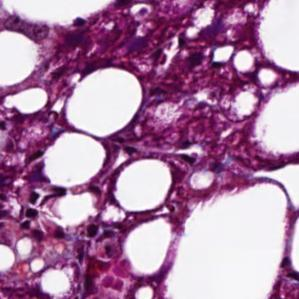inflammation: (16, 183, 69, 241), (173, 23, 219, 70)
